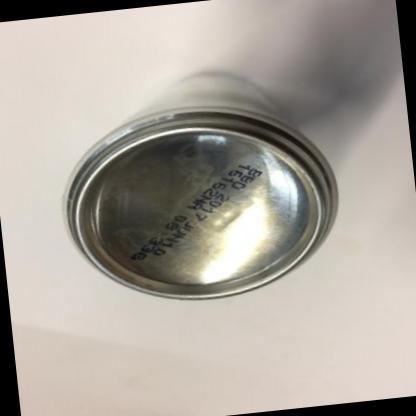Metal: (63, 71, 335, 298)
